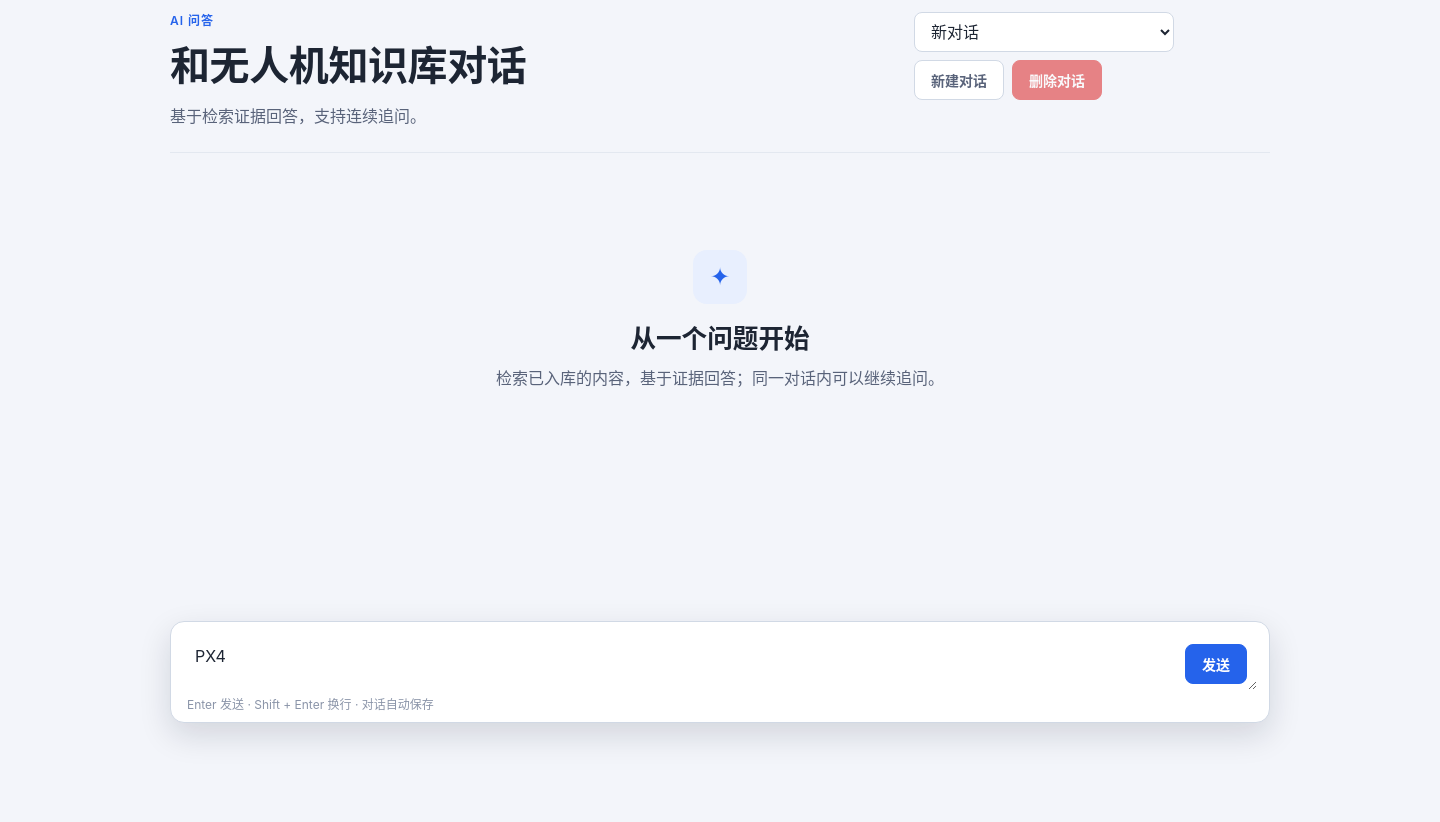
it: AI chat streaming and sessions › stops the request and marks partial output incomplete
Step 1. Click the button "发送" → (1216, 664), box [1185,644,1247,684]
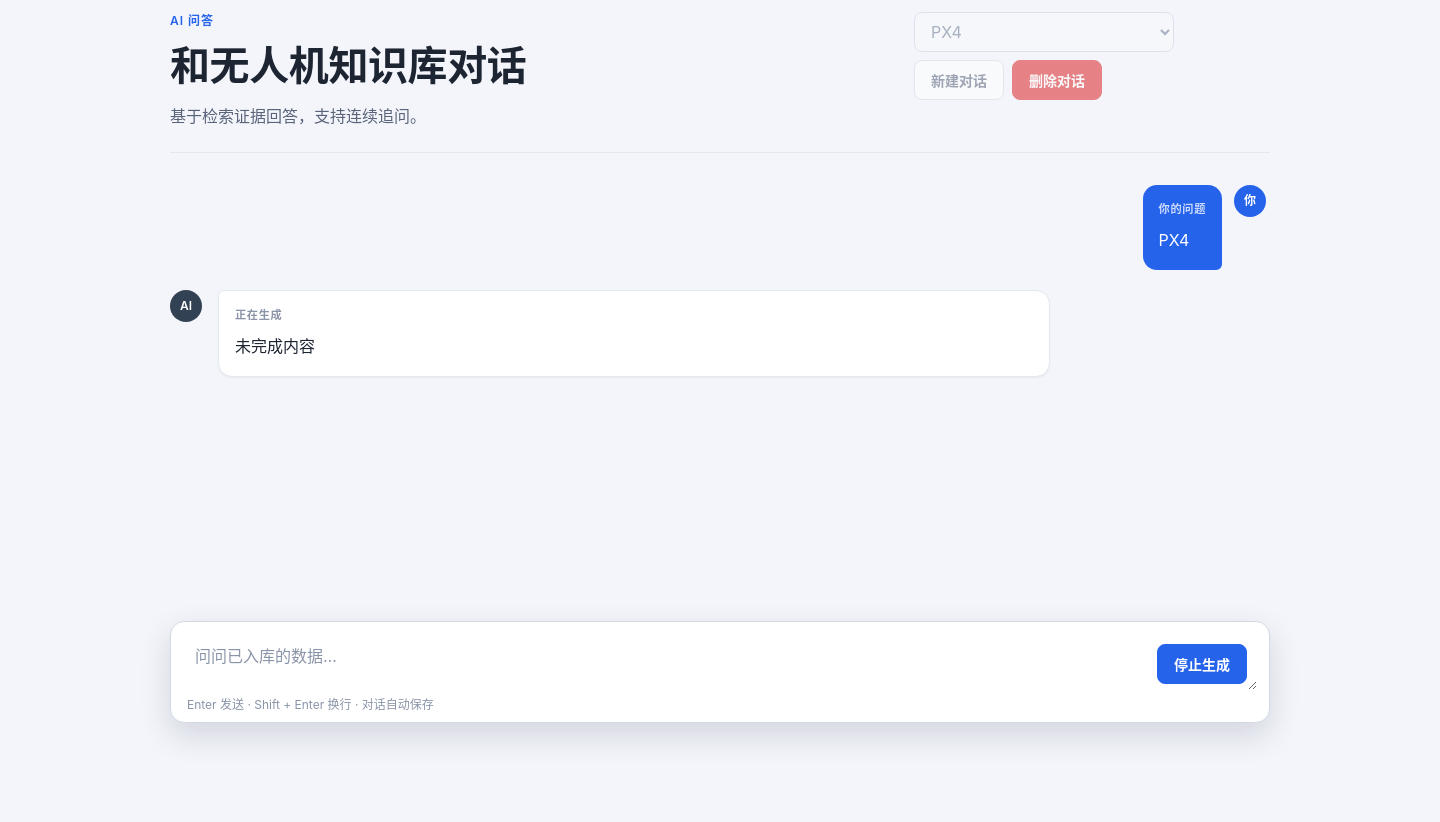
Now the text "未完成内容" is shown, box [235,336,315,356]
Step 2. Click the button "停止生成" → (1202, 664), box [1157,644,1247,684]
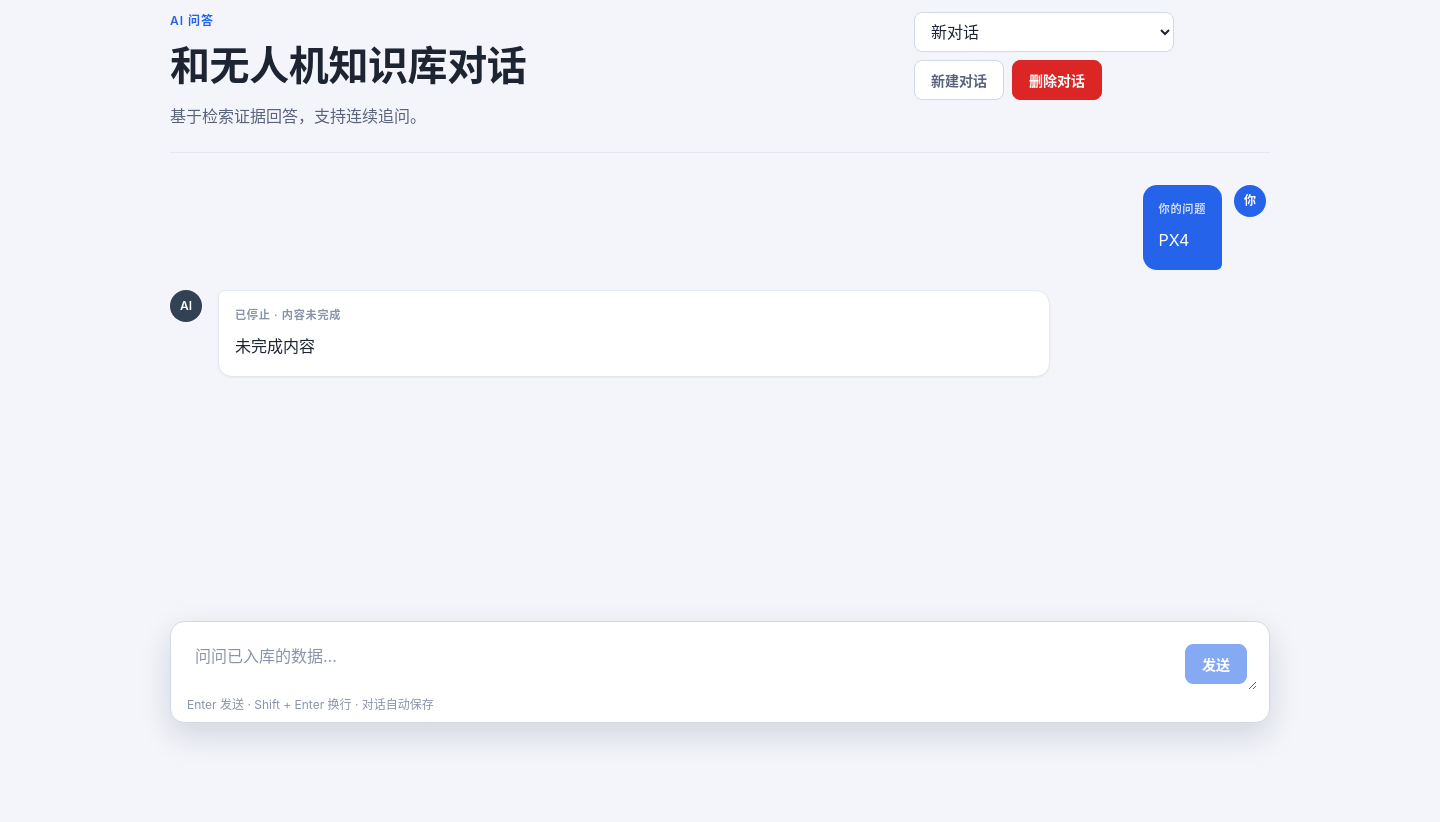
Now the text "已停止 · 内容未完成" is shown, box [235,308,341,322]
